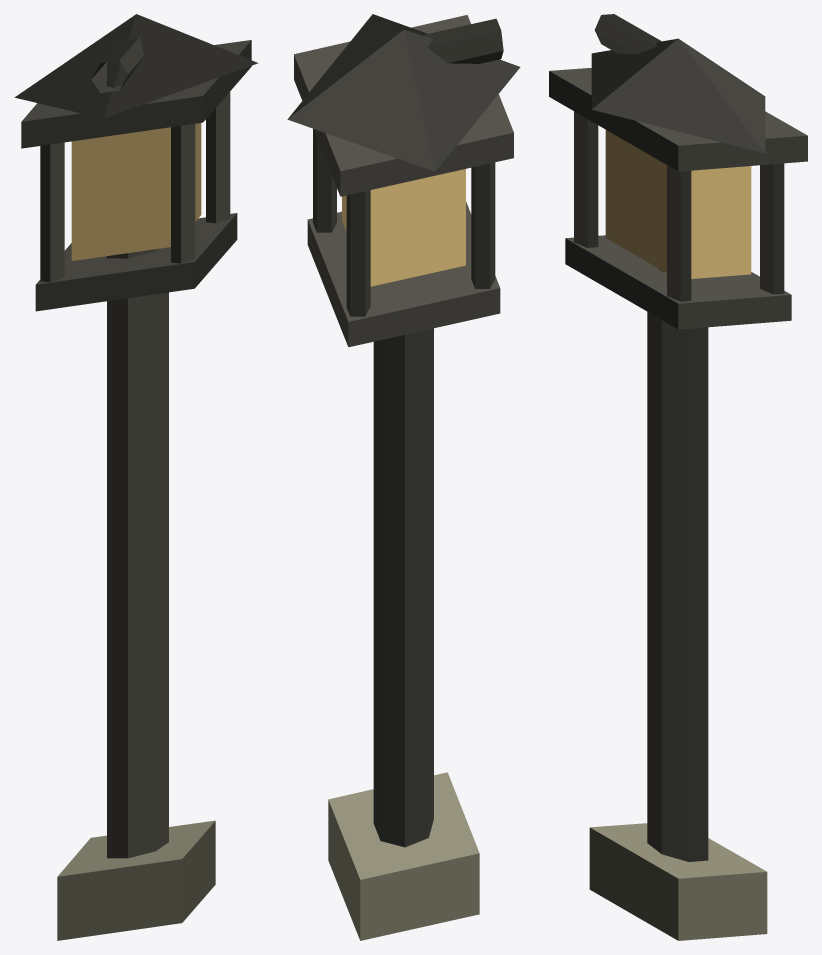
The picture shows the model from 3 angles, left to right: view 1: azimuth 30°, elevation 25°; view 2: azimuth 150°, elevation 25°; view 3: azimuth 270°, elevation 25°; orthographic projection. The views are drawn at different scales.
Parts seen in each view (by area): view 1: 65b8ab402f58d55752f012e94c330eb4db69dc15d286d76e3a73a7c5f17e; view 2: 65b8ab402f58d55752f012e94c330eb4db69dc15d286d76e3a73a7c5f17e; view 3: 65b8ab402f58d55752f012e94c330eb4db69dc15d286d76e3a73a7c5f17e.
Part boxes in pixels (left/top/right/bottom): 65b8ab402f58d55752f012e94c330eb4db69dc15d286d76e3a73a7c5f17e: left=14, top=14, right=258, bottom=940; 65b8ab402f58d55752f012e94c330eb4db69dc15d286d76e3a73a7c5f17e: left=287, top=14, right=520, bottom=940; 65b8ab402f58d55752f012e94c330eb4db69dc15d286d76e3a73a7c5f17e: left=549, top=14, right=807, bottom=940.
Bounding box in the file's own units: 0.9051 × 3.46 × 0.9051.
Materials: 2 (1 with a texture image).
